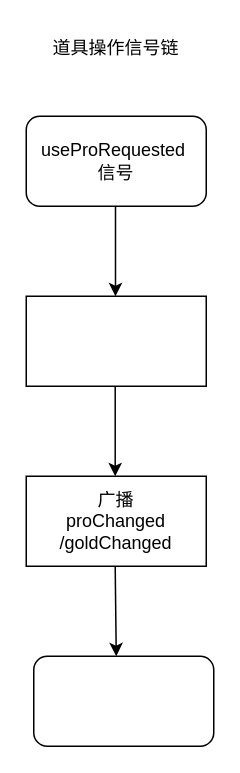
Image size: 240x773. Some labels were removed from this diagram. The shapes that lost their labels are listed below. From the top down, each one's centre as x and y in pixels, then its label:
At (x=115, y=340): "GameState 检查".
At (x=123, y=700): "界面刷新".
